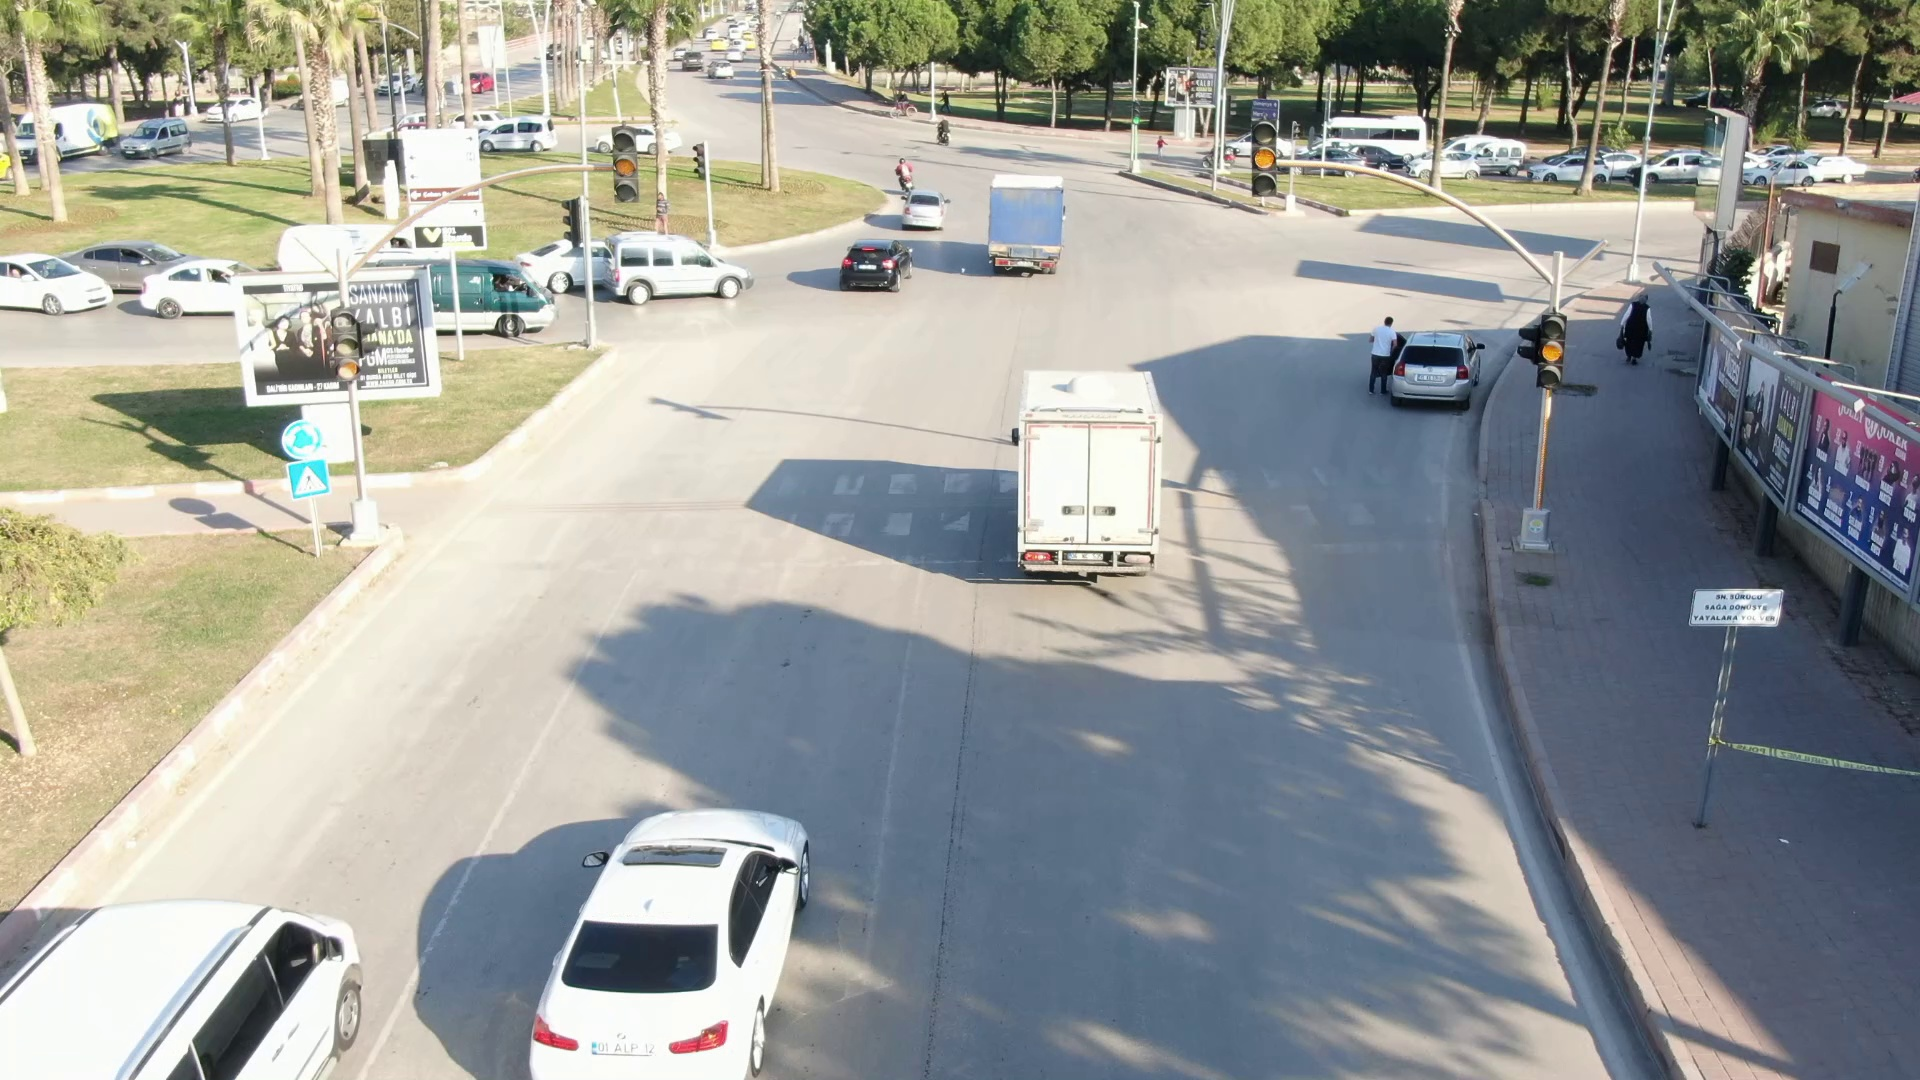car: (485, 783, 857, 1080), (985, 351, 1185, 601), (600, 224, 761, 310), (1, 241, 117, 317), (1390, 321, 1485, 408), (833, 231, 912, 295), (891, 187, 954, 234)
person: (1612, 285, 1658, 365), (1364, 309, 1396, 399)
